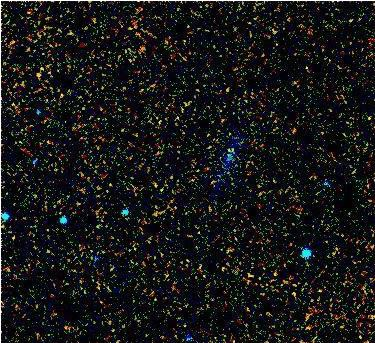star: (214, 137, 244, 167)
